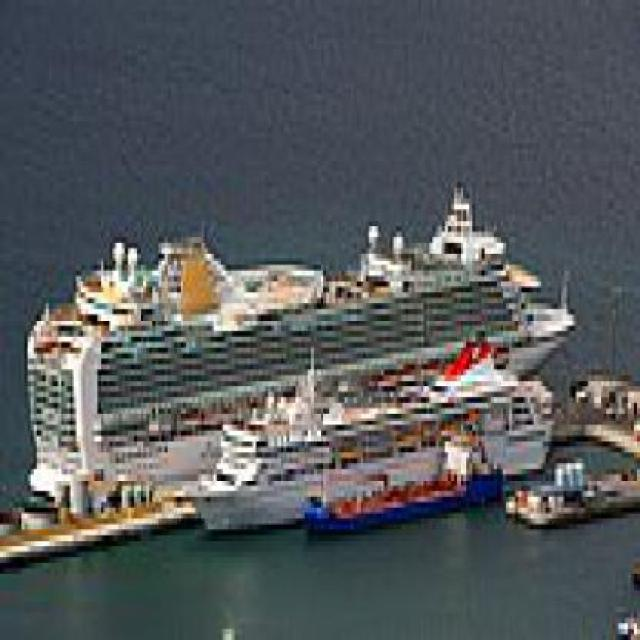cruise: (19, 177, 586, 503)
